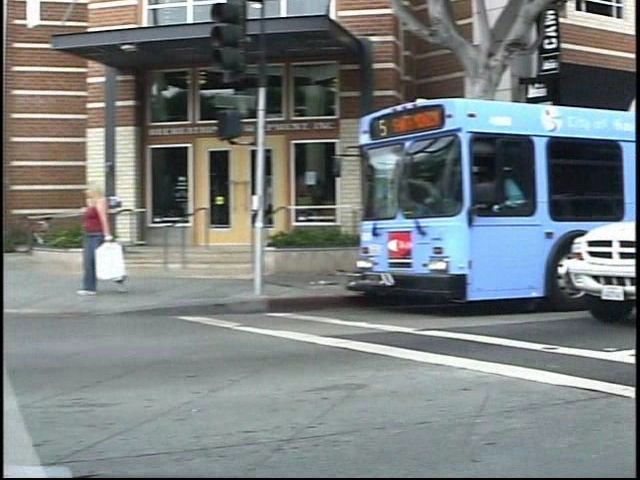person: (83, 179, 142, 305)
